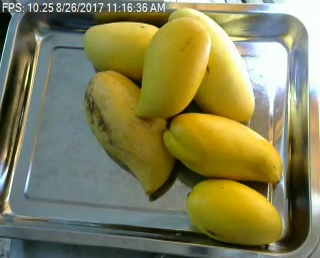Mango: (83, 72, 174, 193), (168, 7, 255, 121), (163, 113, 283, 184), (136, 17, 211, 116), (186, 179, 282, 245), (84, 21, 163, 82)
